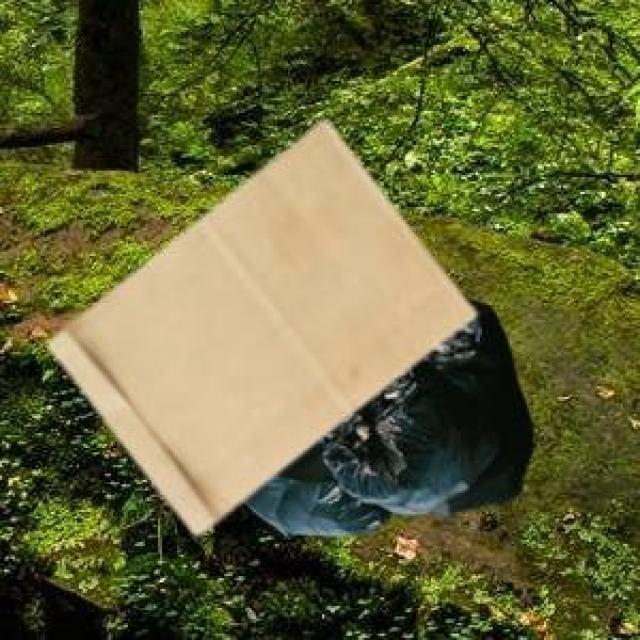miscellaneous trash: (239, 354, 495, 533), (418, 294, 529, 512)
paper: (45, 117, 472, 529)
